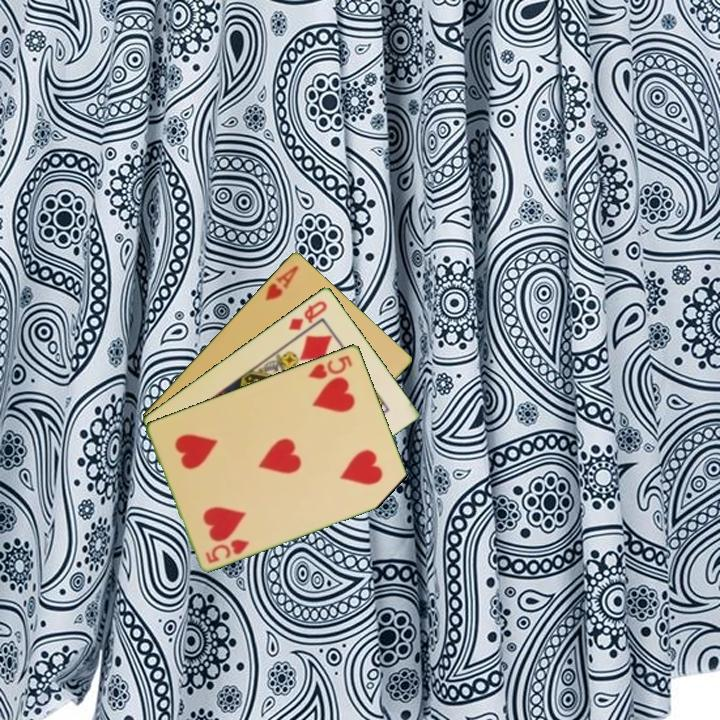5h: (202, 535, 253, 566), (305, 351, 355, 382)
Ah: (261, 261, 301, 303)
Qd: (284, 296, 330, 333)
